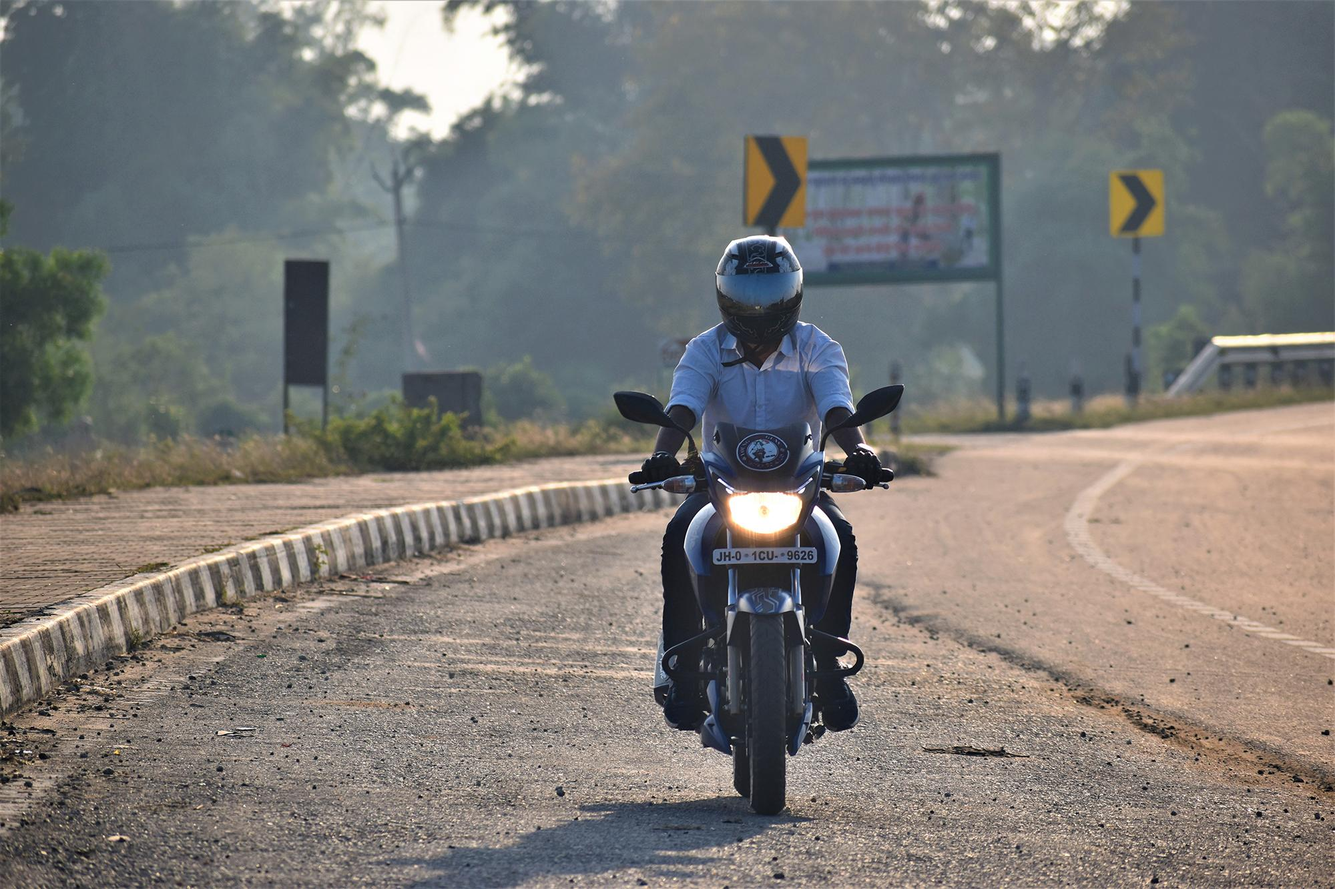helmet: (714, 234, 805, 346)
